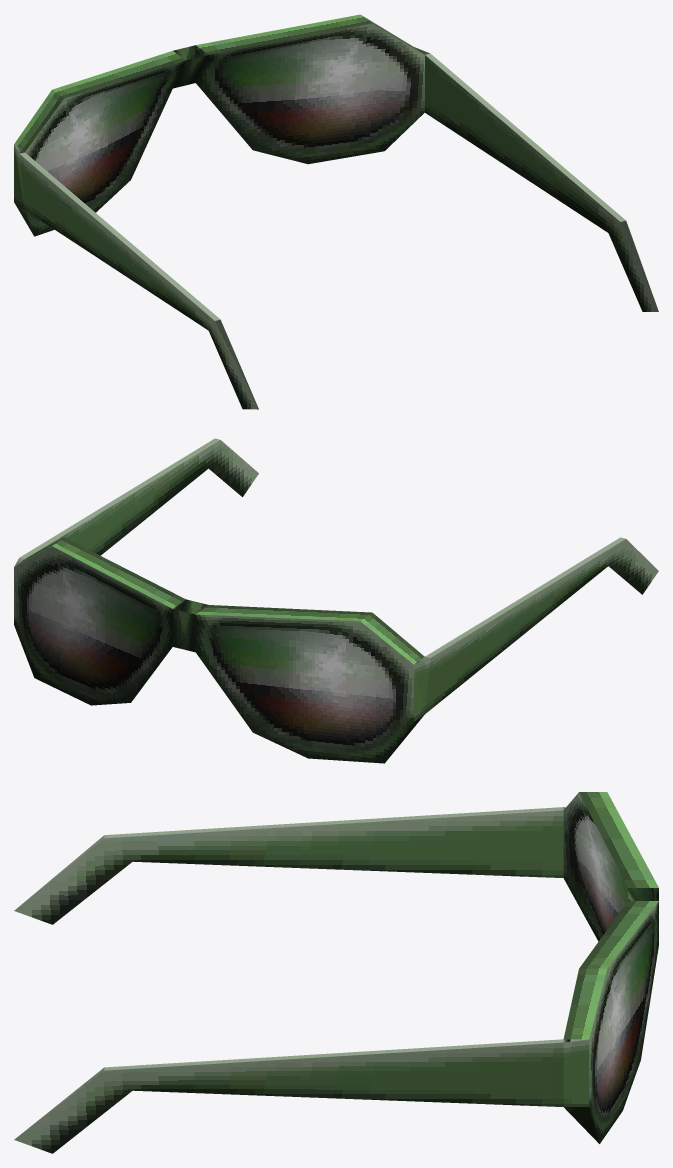
File: sunglasses01.fbx
3 renders of one model, top to bottom at view 1: azimuth 30°, elevation 25°; view 2: azimuth 150°, elevation 25°; view 3: azimuth 270°, elevation 25°, orthographic. The views are drawn at different scales.
Visible parts, largest first — view 1: mesh_0; view 2: mesh_0; view 3: mesh_0.
Boxes of the visible parts, x1,y1,x2,y2 form: mesh_0: (14,14,658,409); mesh_0: (14,438,658,763); mesh_0: (14,792,658,1153).
Bounding box in the file's own units: 21.6 × 7.2 × 25.
Materials: 1 (1 with a texture image).
